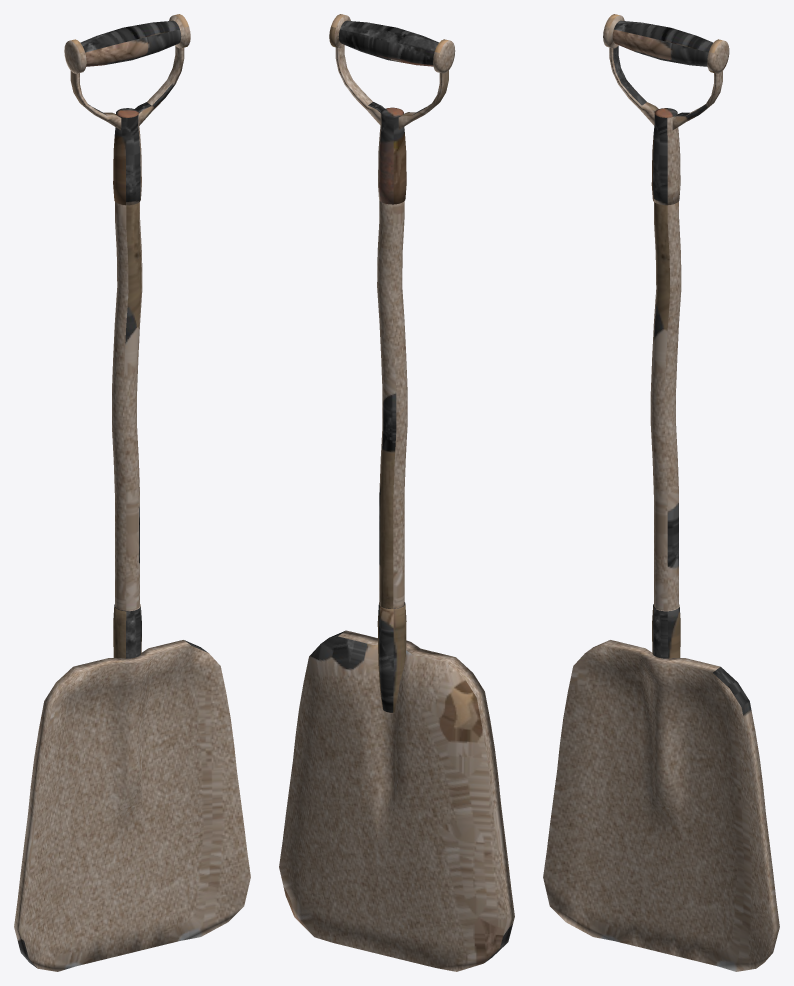
The model's file is Pala.fbx.
The picture shows the model from 3 angles, left to right: view 1: azimuth 30°, elevation 25°; view 2: azimuth 150°, elevation 25°; view 3: azimuth 330°, elevation 25°; orthographic projection.
Visible parts, largest first — view 1: Spade_LOD0; view 2: Spade_LOD0; view 3: Spade_LOD0.
Boxes of the visible parts, <box> form: Spade_LOD0: <box>14,14,250,971</box>; Spade_LOD0: <box>279,14,514,971</box>; Spade_LOD0: <box>543,14,779,971</box>.
Size of what is drawn, in the model's own units: 33.48 by 129 by 5.67.
